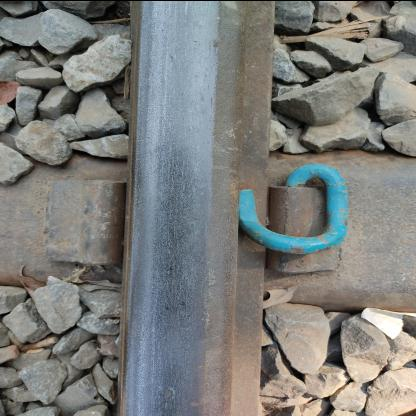Defective: (261, 104, 415, 265)
